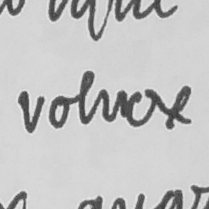l: (74, 69, 97, 126)
o: (121, 87, 158, 128), (47, 93, 71, 130)
v: (16, 88, 46, 135), (98, 87, 127, 123)
x: (158, 84, 194, 133)
